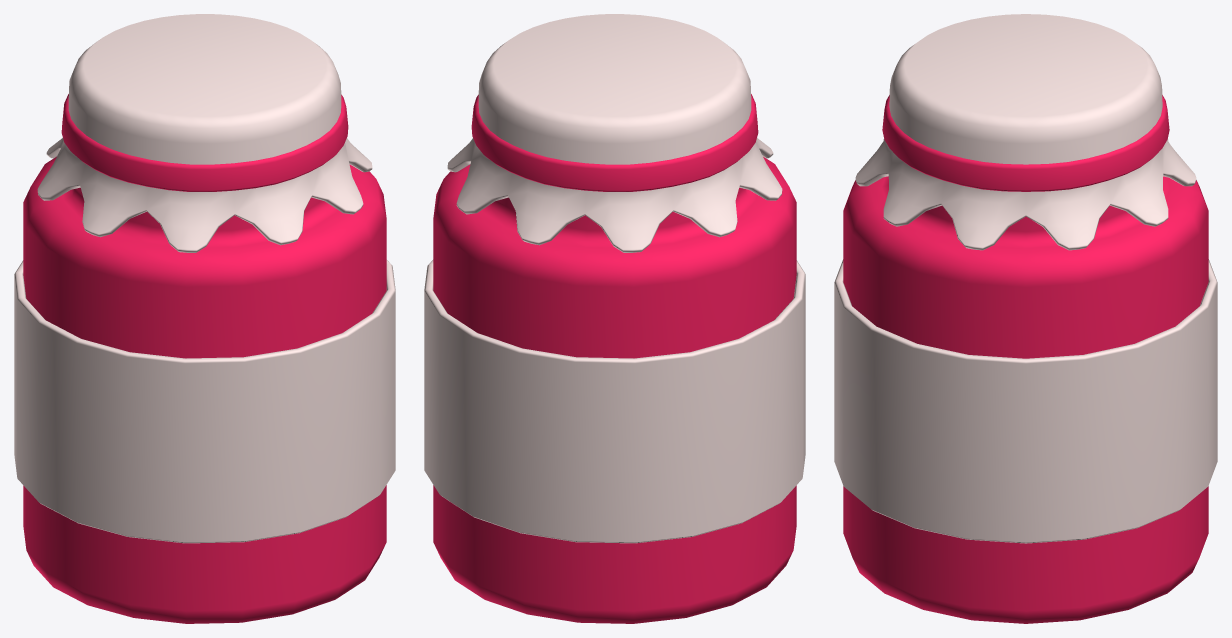
Rendered from Farm_17_Bottle_5.glb.
The picture shows the model from 3 angles, left to right: view 1: azimuth 30°, elevation 25°; view 2: azimuth 150°, elevation 25°; view 3: azimuth 270°, elevation 25°; orthographic projection.
Visible parts, largest first — view 1: Farm_17_Bottle_5; view 2: Farm_17_Bottle_5; view 3: Farm_17_Bottle_5.
Boxes of the visible parts, x1,y1,x2,y2 form: Farm_17_Bottle_5: (14, 14, 395, 623); Farm_17_Bottle_5: (424, 14, 805, 623); Farm_17_Bottle_5: (834, 14, 1217, 623).
Size of the model in its own units: 0.2621 by 0.3705 by 0.262.
1 material, 1 textured.
